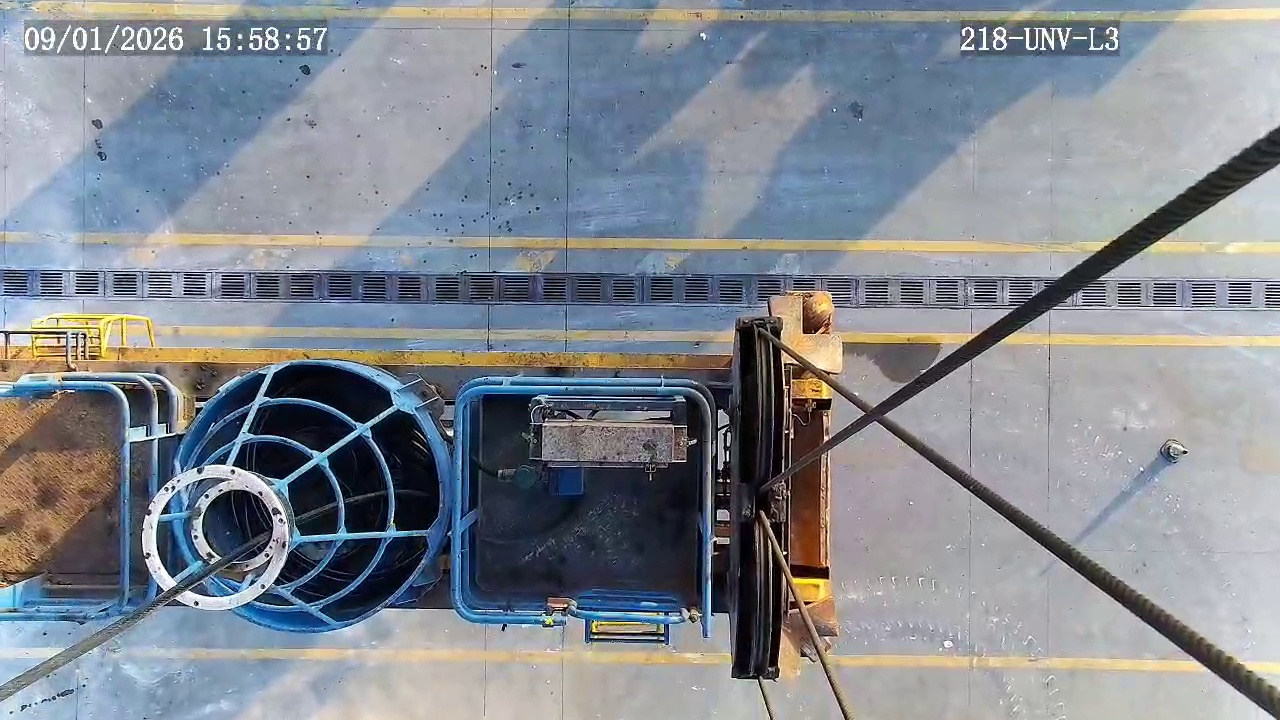right: (169, 364, 444, 632)
